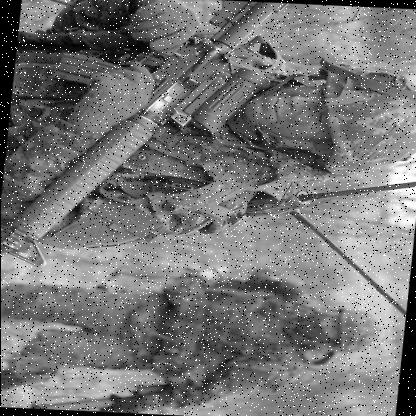rifle: (1, 0, 293, 302)
